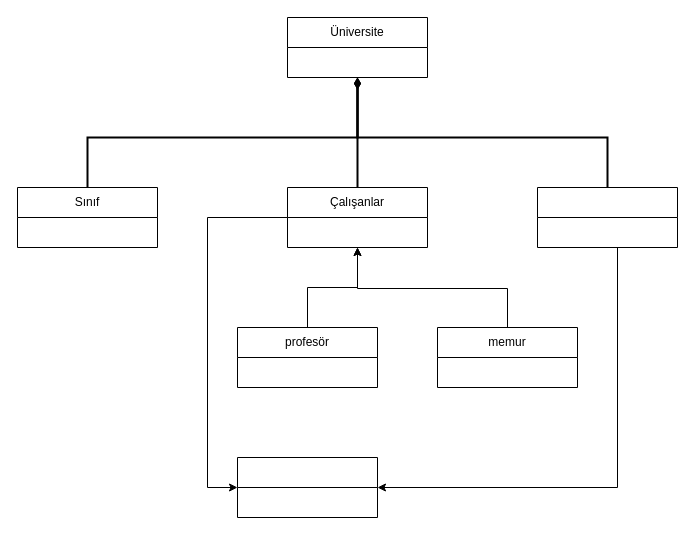
Some shapes in this 695 by 535 pixel diagram are drawn without their labels. Each missing label, with the centre of its shape:
"Departmanlar" belongs at point 607,217.
"ofis" belongs at point 307,487.
